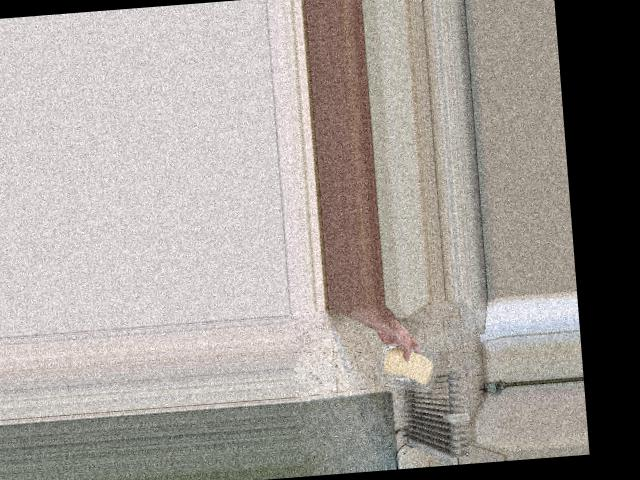cheese: (378, 343, 439, 388)
